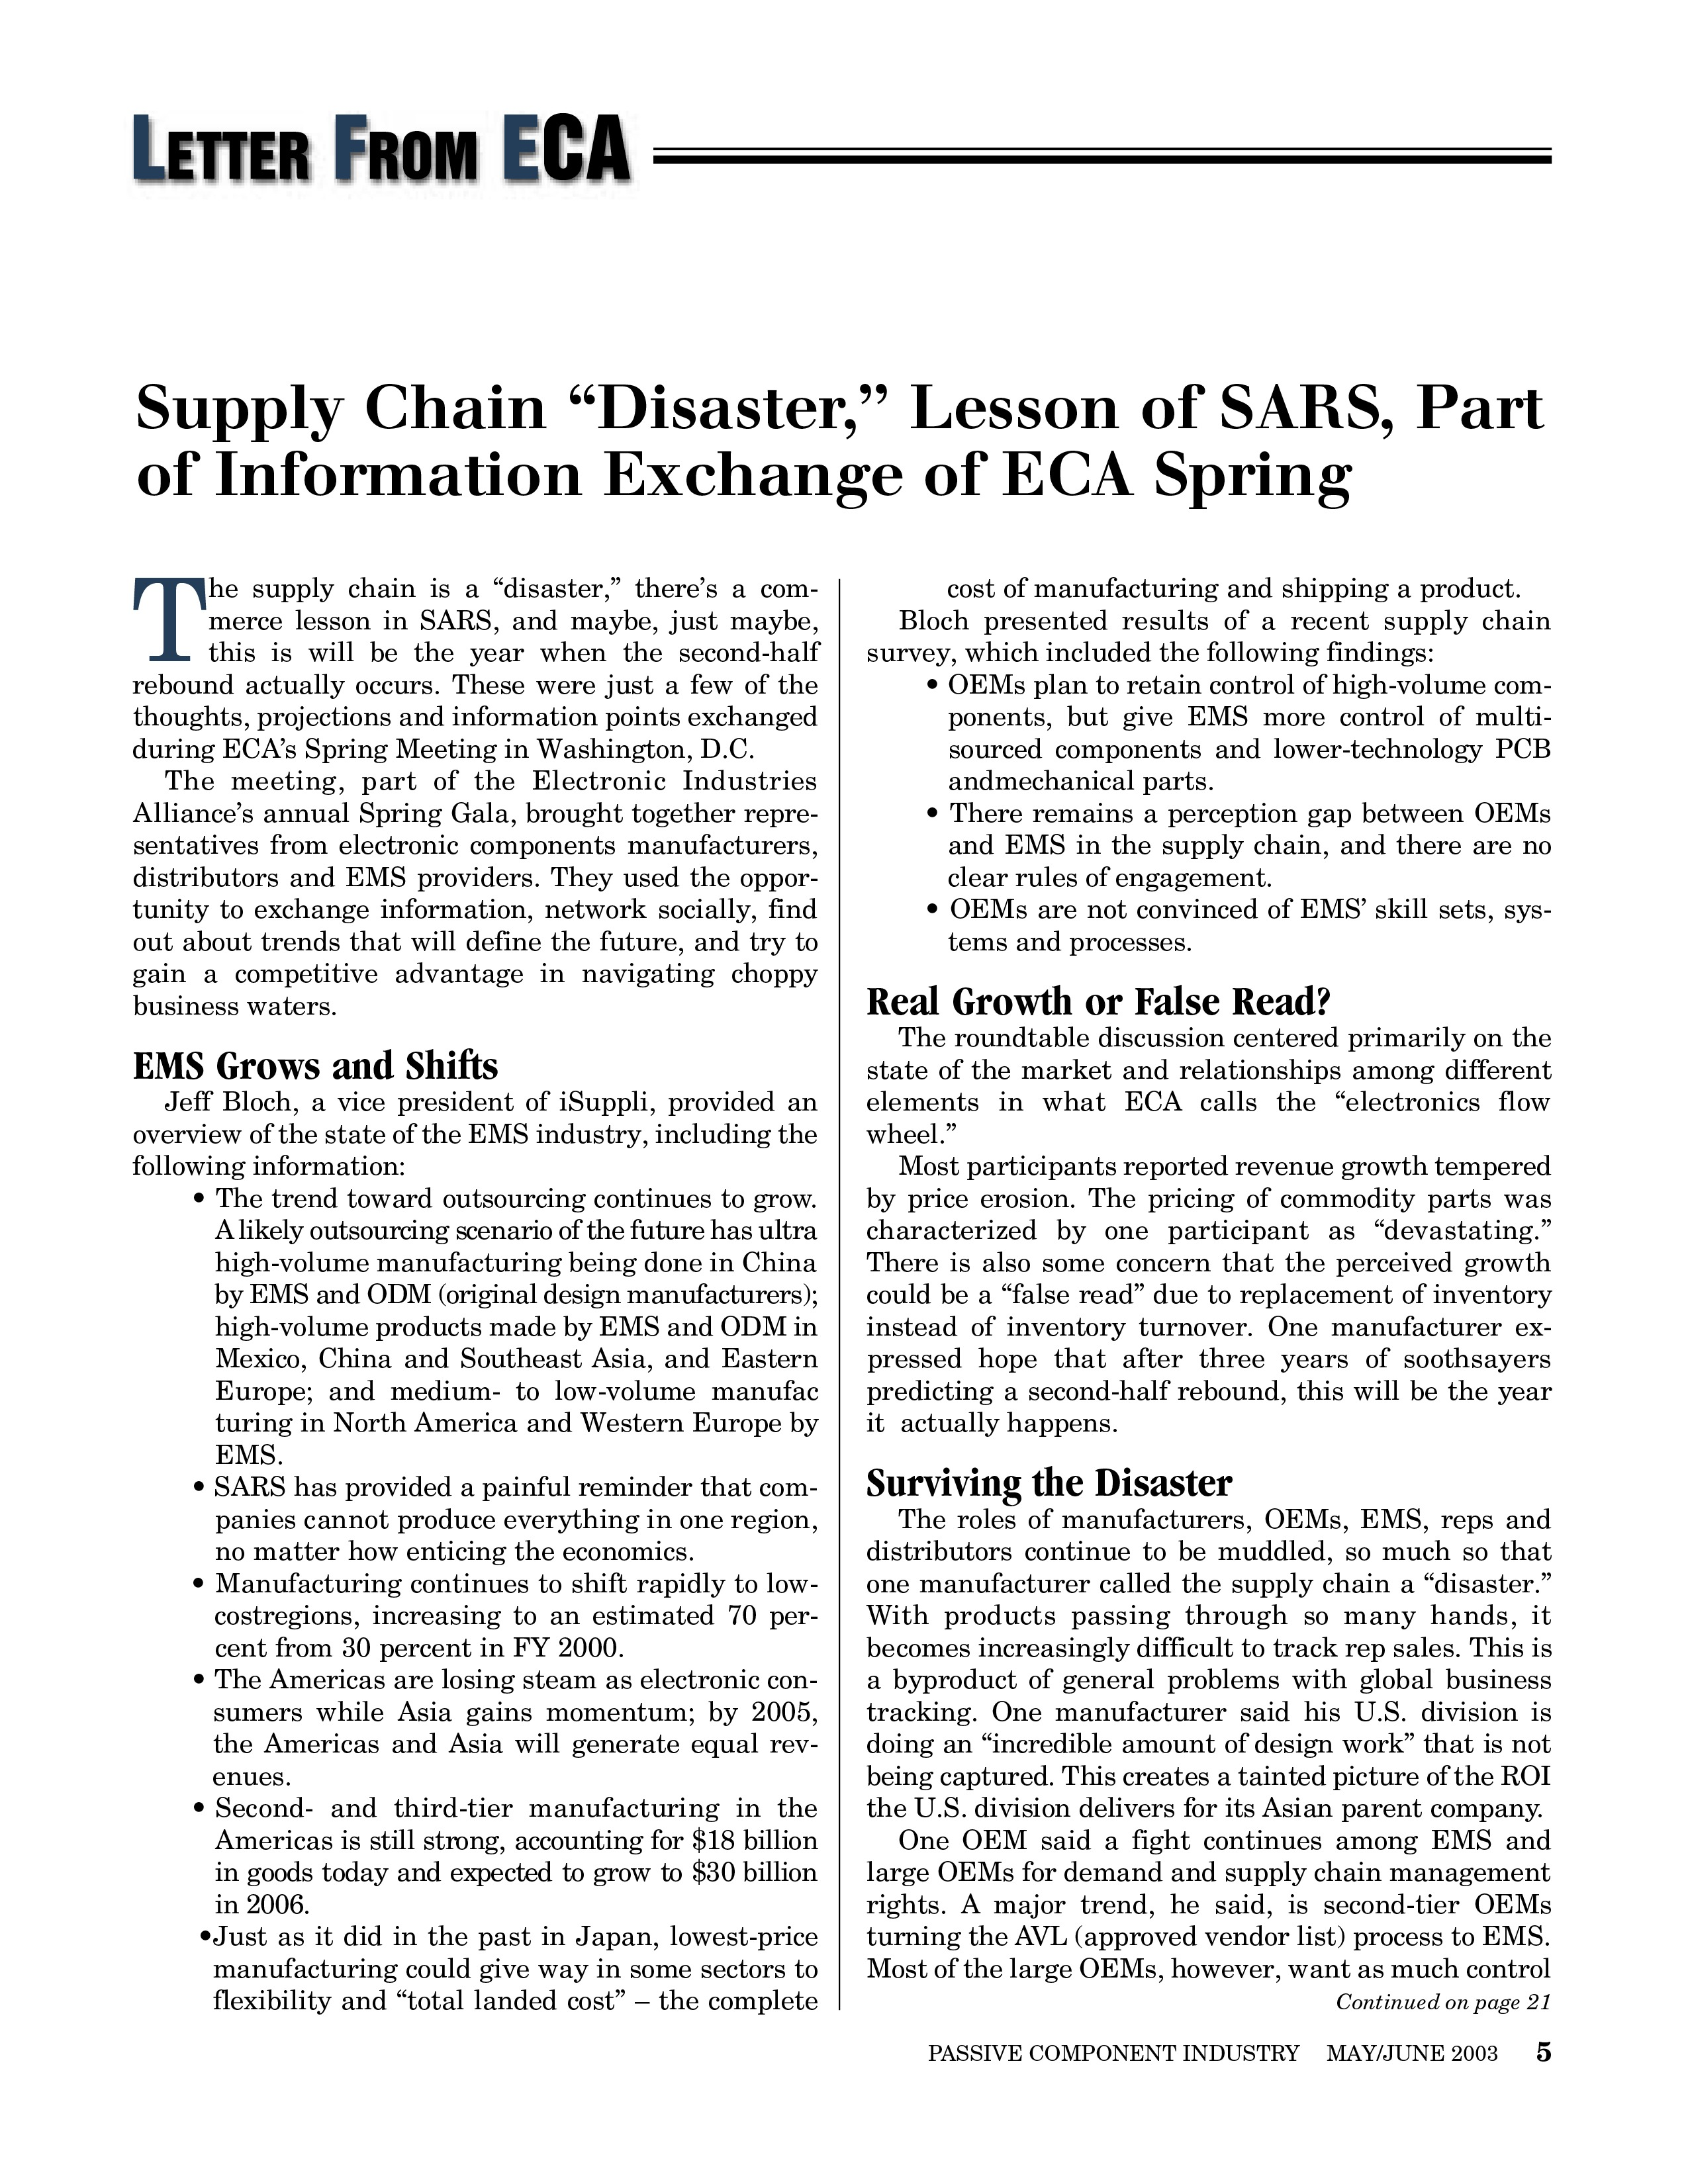list: (191, 1174, 823, 2023), (911, 661, 1573, 979)
section: (126, 360, 1569, 519), (126, 96, 645, 222), (860, 971, 1339, 1028), (112, 1041, 520, 1099), (842, 1461, 1246, 1503)
text: (862, 1510, 1560, 2001), (110, 569, 819, 1028), (856, 1163, 1553, 1447), (865, 1021, 1553, 1159), (122, 1085, 819, 1193), (860, 573, 1560, 667)
